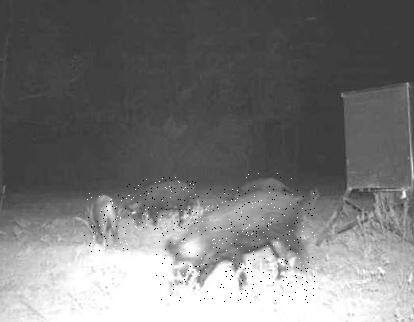Hog: (156, 189, 315, 303), (122, 177, 197, 230), (83, 192, 128, 252), (235, 173, 296, 202)
